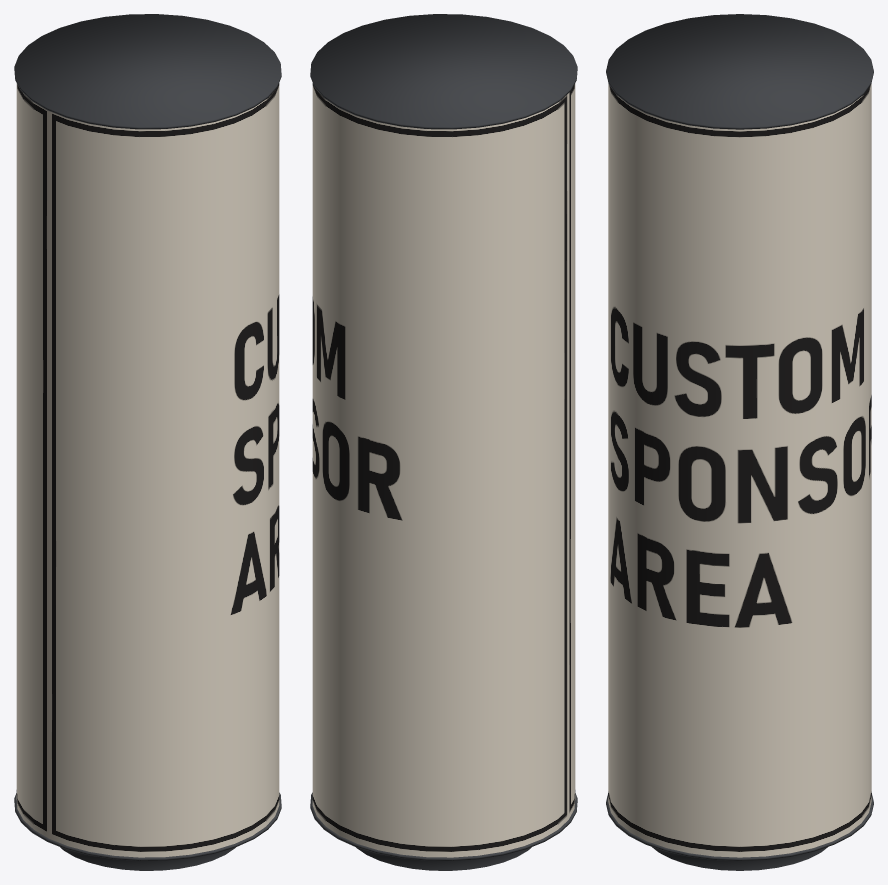
The model's file is sponsor_cylindre.fbx.
3 renders of one model, left to right at view 1: azimuth 30°, elevation 25°; view 2: azimuth 150°, elevation 25°; view 3: azimuth 270°, elevation 25°, orthographic.
Parts seen in each view (by area): view 1: sponsor_cylindre_rotating, sponsor_cylindre_support; view 2: sponsor_cylindre_rotating, sponsor_cylindre_support; view 3: sponsor_cylindre_rotating, sponsor_cylindre_support.
Boxes of the visible parts, x1=… form: sponsor_cylindre_rotating: x1=16, y1=83, x2=279, y2=857; sponsor_cylindre_support: x1=14, y1=14, x2=281, y2=870; sponsor_cylindre_rotating: x1=312, y1=83, x2=575, y2=857; sponsor_cylindre_support: x1=310, y1=14, x2=577, y2=870; sponsor_cylindre_rotating: x1=608, y1=83, x2=871, y2=857; sponsor_cylindre_support: x1=606, y1=14, x2=873, y2=870.
Size of the model in its own units: 96.13 by 301 by 96.13.
